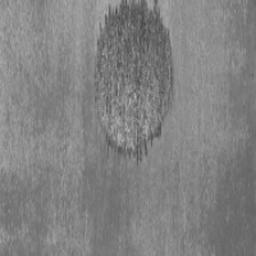Rolled pit: (95, 0, 173, 163)
